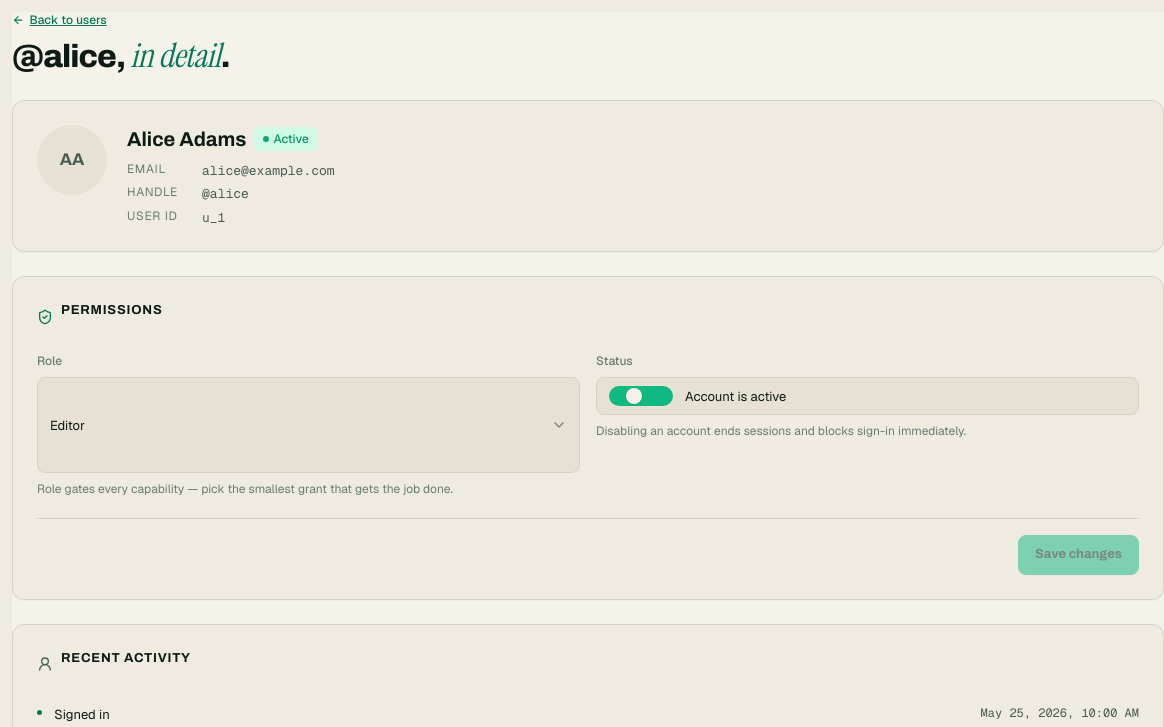
Scenario: <UserDetail> › disables Save until a field changes
Expected: the button with test id "user-detail-save" is disabled, 1018,535 -> 1139,575
# Toggle the status switch — Save should become enabled.
Click the switch named "account active" at (641, 396), box 609,386 -> 673,406
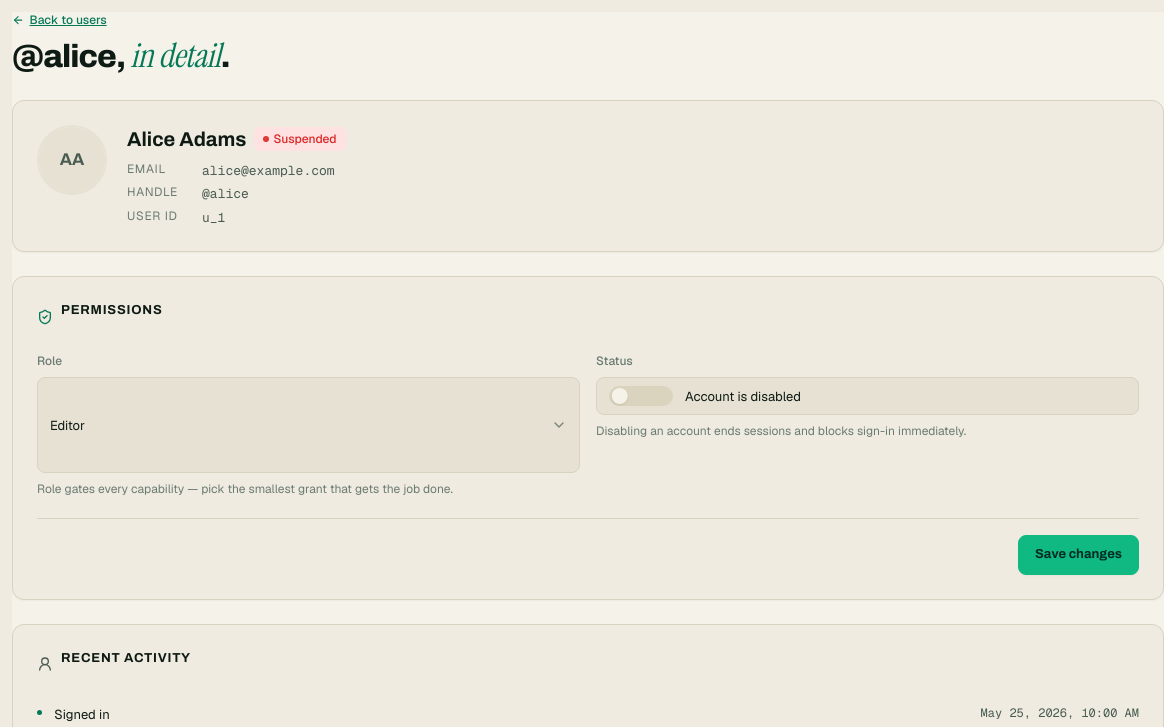
Expected: the button with test id "user-detail-save" is enabled, 1018,535 -> 1139,575
